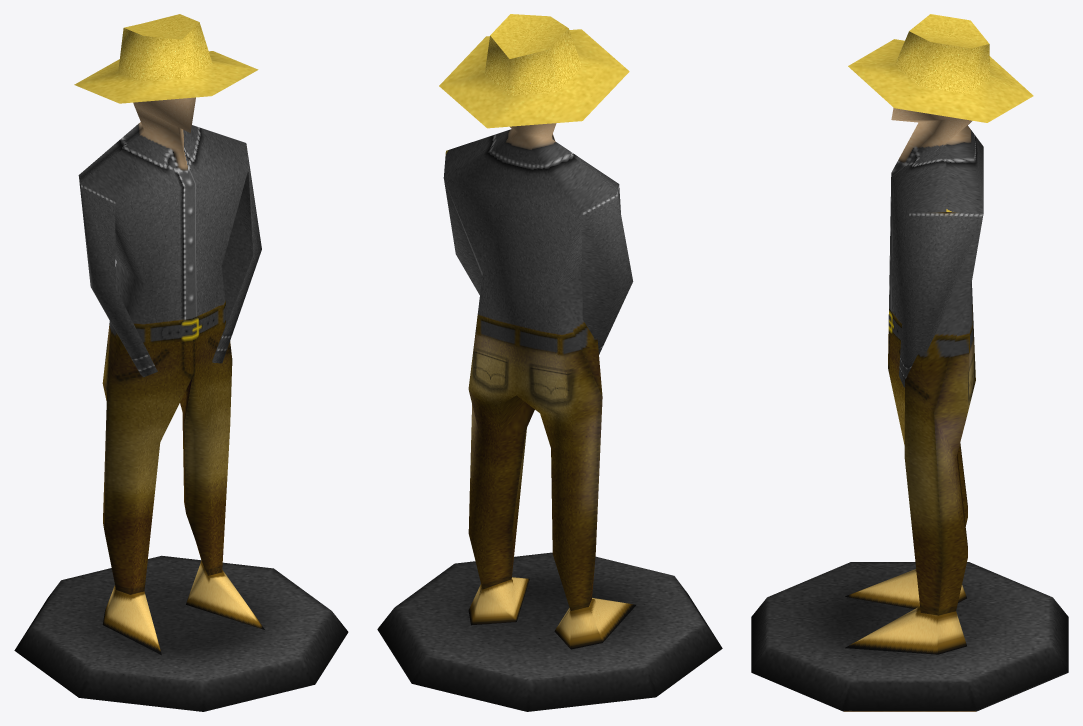
File: person.dae
The picture shows the model from 3 angles, left to right: view 1: azimuth 30°, elevation 25°; view 2: azimuth 150°, elevation 25°; view 3: azimuth 270°, elevation 25°; orthographic projection. The views are drawn at different scales.
Visible parts, largest first — view 1: Box01; view 2: Box01; view 3: Box01.
Boxes of the visible parts, x1,y1,x2,y2 form: Box01: [14, 14, 348, 711]; Box01: [377, 14, 722, 711]; Box01: [751, 14, 1068, 711].
Size of the model in its own units: 1.28 by 1.28 by 2.74.
1 material, 1 textured.
